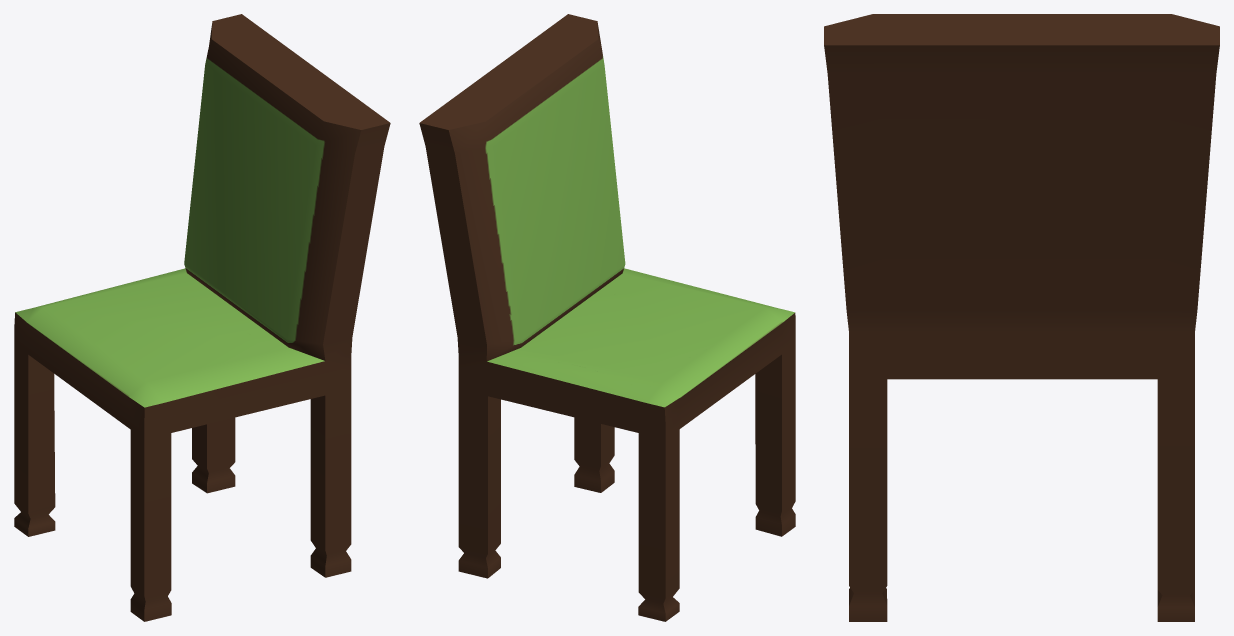
File: diningChair.fbx
The picture shows the model from 3 angles, left to right: view 1: azimuth 30°, elevation 25°; view 2: azimuth 150°, elevation 25°; view 3: azimuth 270°, elevation 25°; orthographic projection. The views are drawn at different scales.
Visible parts, largest first — view 1: pCube2; view 2: pCube2; view 3: pCube2.
Part boxes in pixels (box(x1,y1,x2,y2)): pCube2: box(14, 14, 390, 621); pCube2: box(419, 14, 795, 621); pCube2: box(824, 14, 1219, 621).
Size of the model in its own units: 4.73 by 8.49 by 5.11.
Materials: 1 (1 with a texture image).
